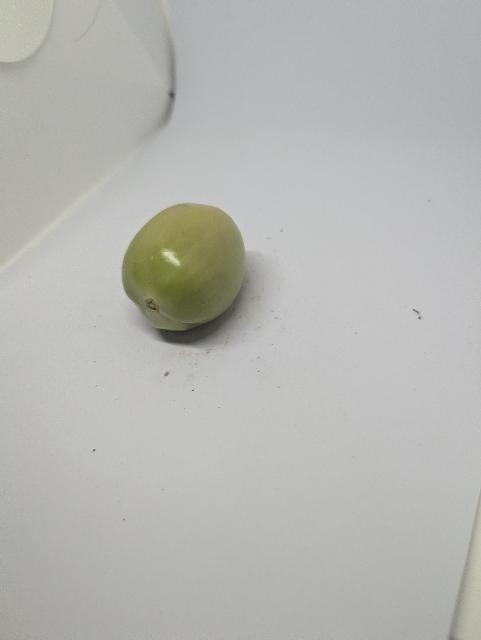green: (119, 200, 249, 332)
